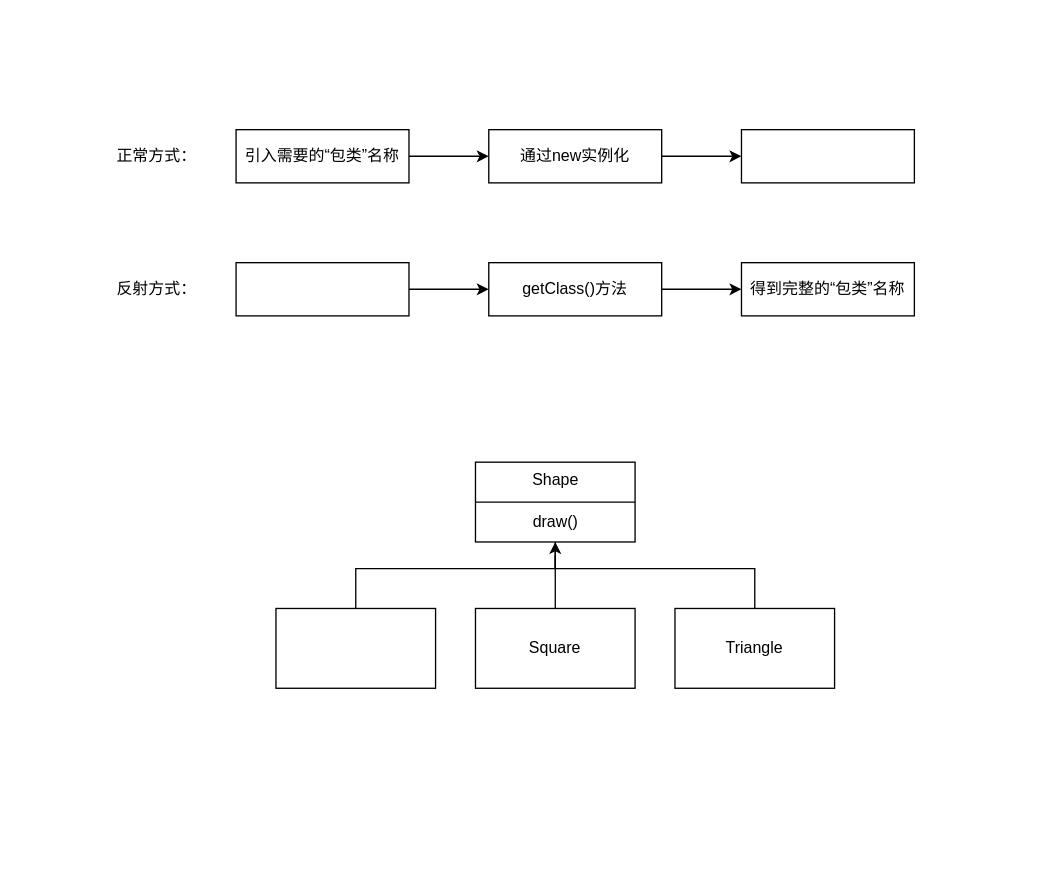
Some shapes in this 1043 by 896 pixel diagram are drawn without their labels. The shapes that lost their labels are listed below. From the top down, each one's centre as x and y in pixels, then its label:
At (x=827, y=155): "取得实例化对象".
At (x=322, y=288): "实例化对象".
At (x=355, y=647): "Circle".
